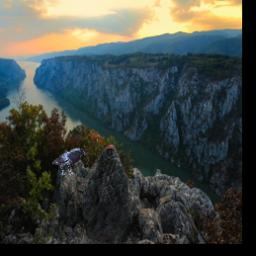Crow: (52, 149, 86, 176)
